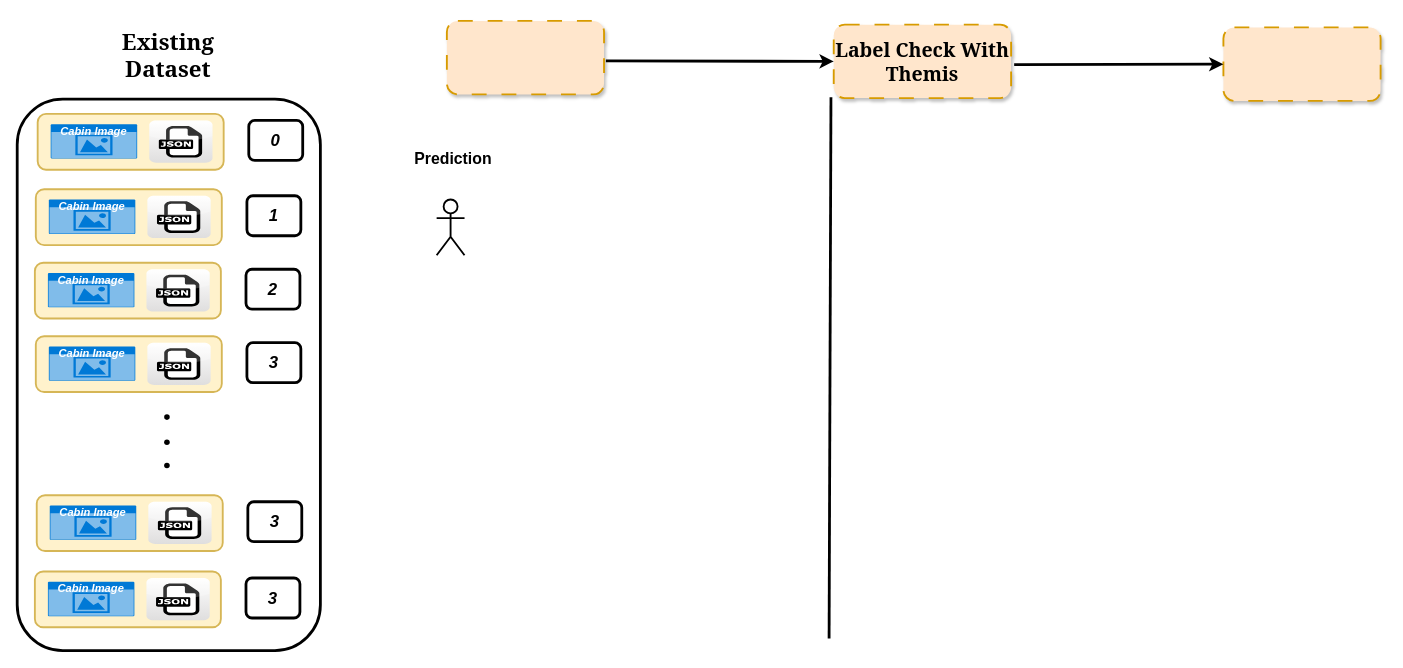
Some shapes in this 1403 by 668 pixel diagram are drawn without their labels. The shapes that lost their labels are listed below. From the top down, each one's centre as x and y in pixels, then its label:
point (526, 58): Pre-label With Oceanus
point (1302, 65): Label Correact With Asclepius
